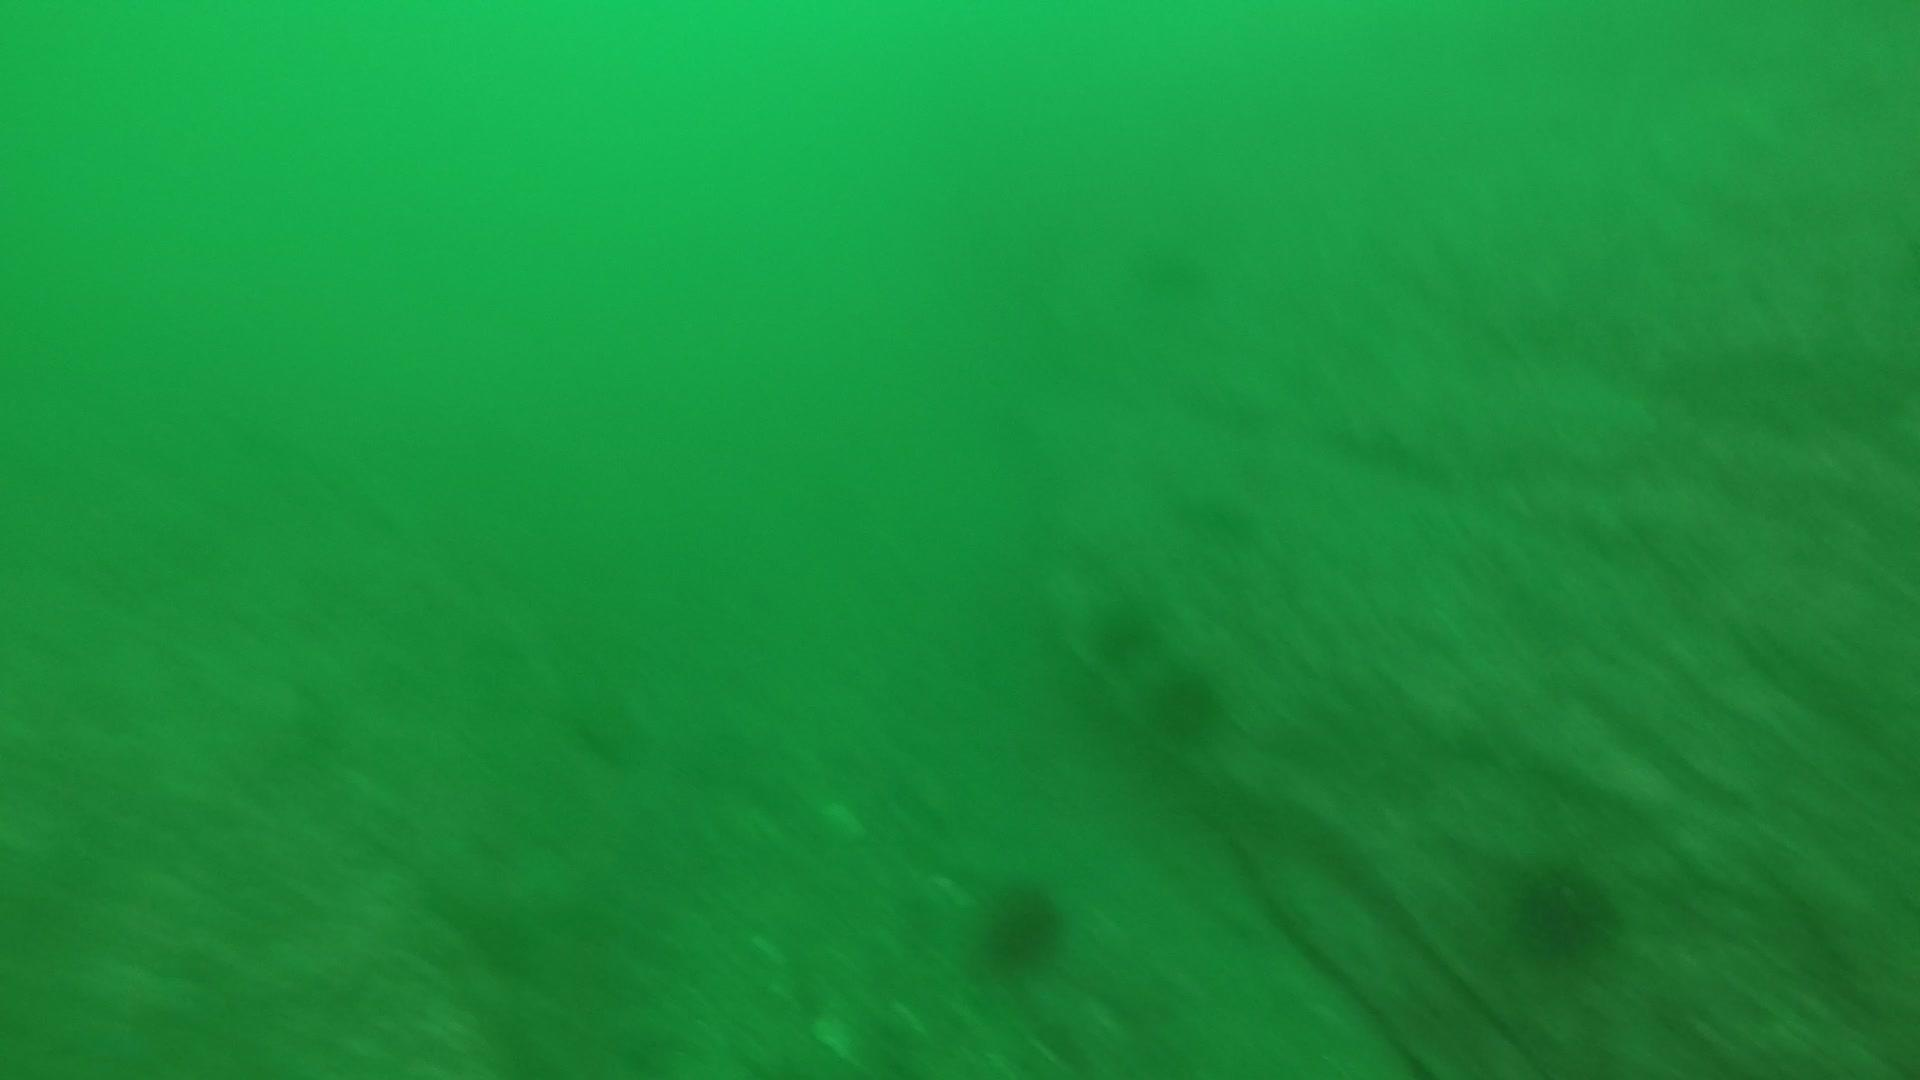echinus: (1505, 855, 1622, 963), (973, 874, 1071, 973), (1142, 661, 1226, 745), (1125, 229, 1216, 305), (1084, 589, 1164, 667)
